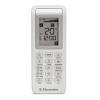remote control: (31, 8, 66, 95)
